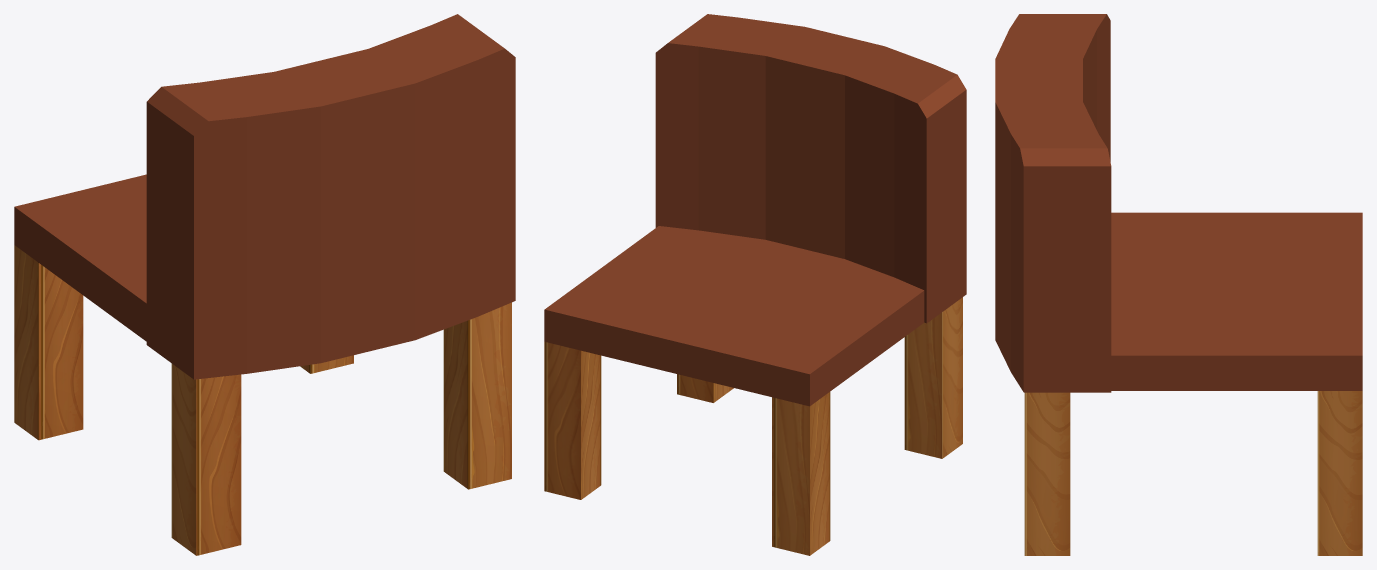
Rendered from chair.fbx.
3 views of the same model, side by side, from view 1: azimuth 30°, elevation 25°; view 2: azimuth 150°, elevation 25°; view 3: azimuth 270°, elevation 25° (orthographic). The views are drawn at different scales.
Visible parts, largest first — view 1: Chair.002, Chair.001; view 2: Chair.002, Chair.001; view 3: Chair.002, Chair.001.
Part boxes in pixels (<box>): Chair.002: <box>14,14,515,379</box>; Chair.001: <box>14,245,511,555</box>; Chair.002: <box>544,14,966,406</box>; Chair.001: <box>544,225,962,555</box>; Chair.002: <box>995,14,1362,392</box>; Chair.001: <box>1024,391,1362,555</box>.
Size of the model in its own units: 37.96 by 48.94 by 40.4.
